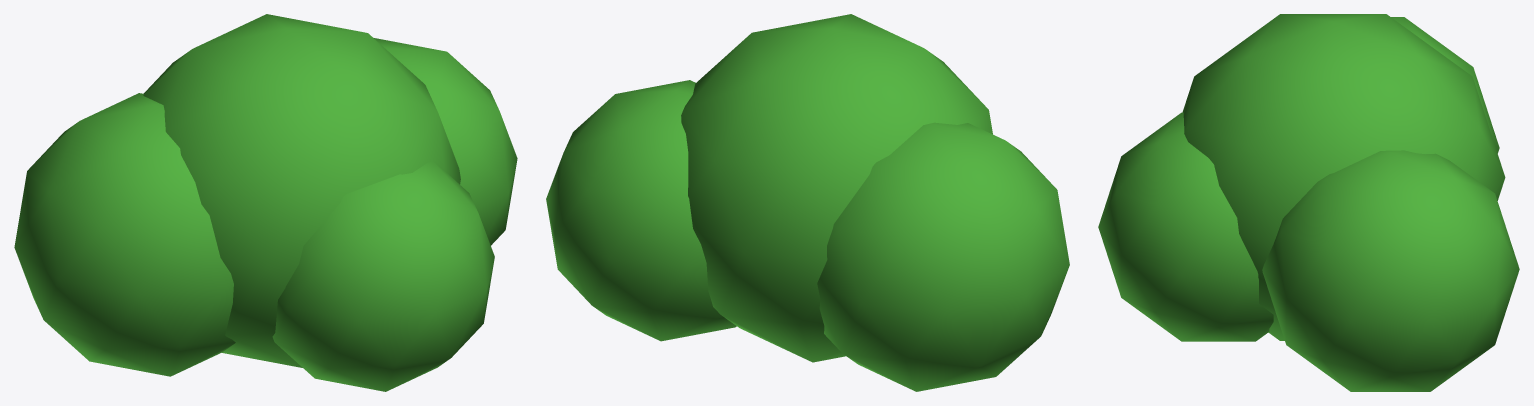
The model's file is bush_mobile.glb.
The picture shows the model from 3 angles, left to right: view 1: azimuth 30°, elevation 25°; view 2: azimuth 150°, elevation 25°; view 3: azimuth 270°, elevation 25°; orthographic projection. The views are drawn at different scales.
Visible parts, largest first — view 1: Bush; view 2: Bush; view 3: Bush.
Boxes of the visible parts, left/top/right/bottom form: Bush: left=14, top=14, right=517, bottom=391; Bush: left=546, top=14, right=1069, bottom=391; Bush: left=1098, top=14, right=1519, bottom=391.
Bounding box in the file's own units: 1.83 × 1.2 × 1.47.
